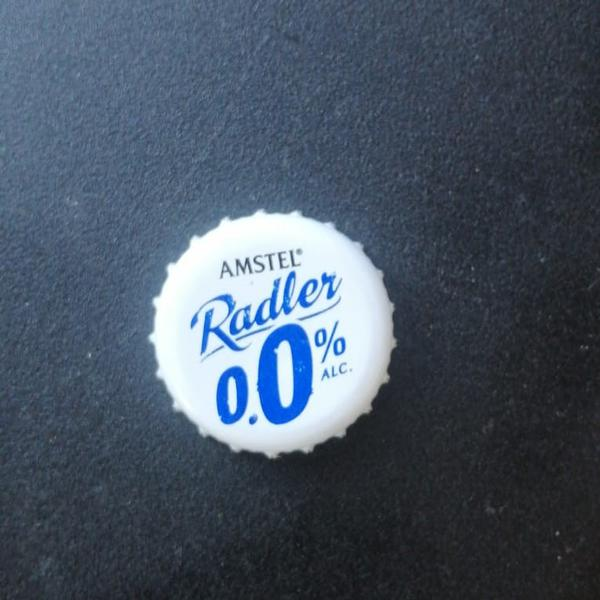amstelradler0.0: (145, 205, 403, 464)
